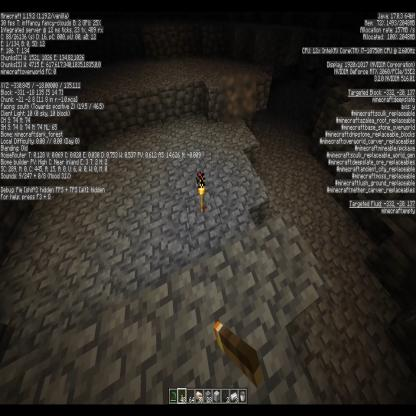iron ore: (219, 74, 242, 122), (234, 71, 256, 118)
